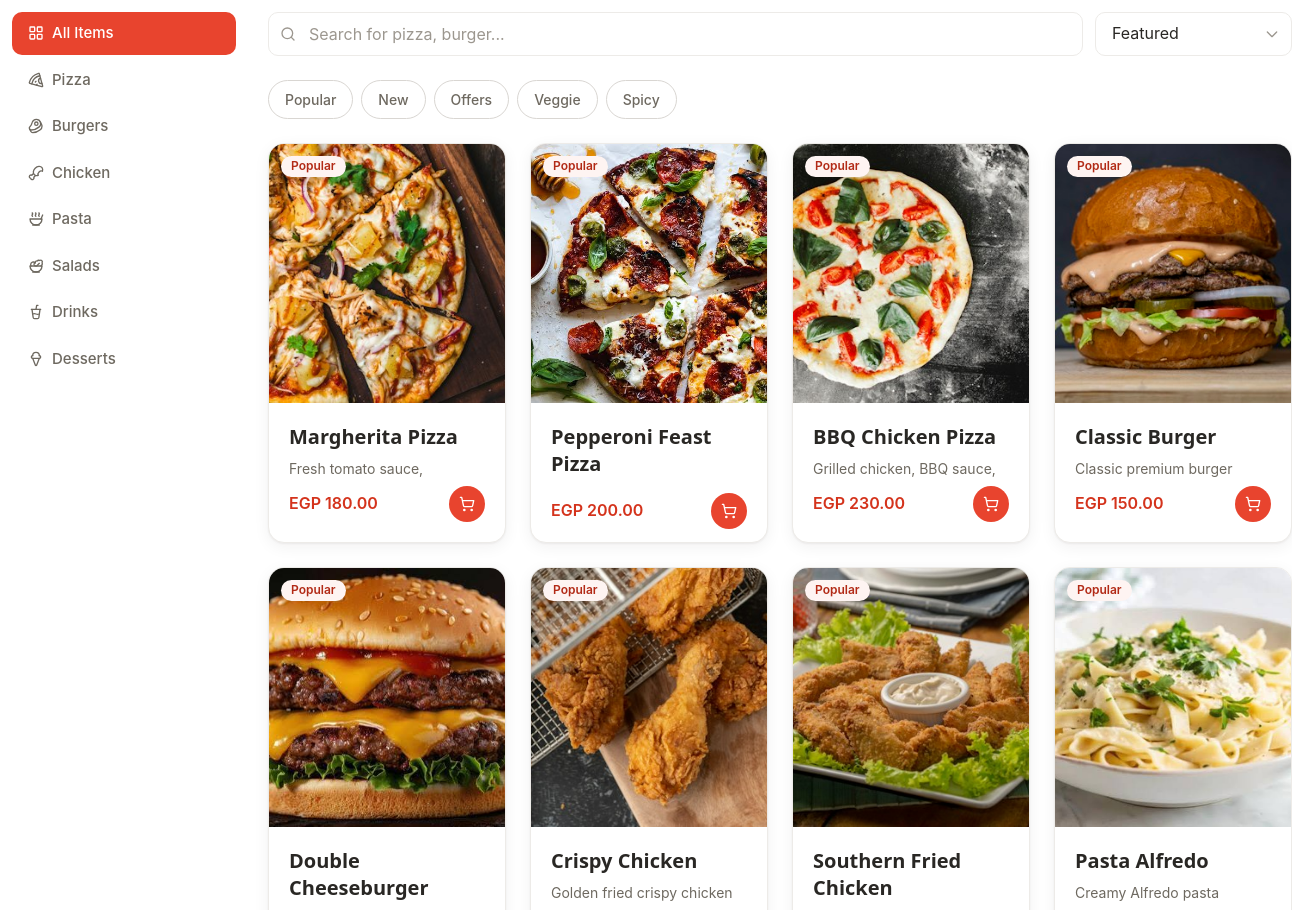
Scenario: MenuClient › clears filters when clear button is clicked
The image size is (1304, 910).
Type "xyznonexistent" into the search field with placeholder "Search for pizza, burger..." at (676, 34), box [268, 12, 1083, 56]
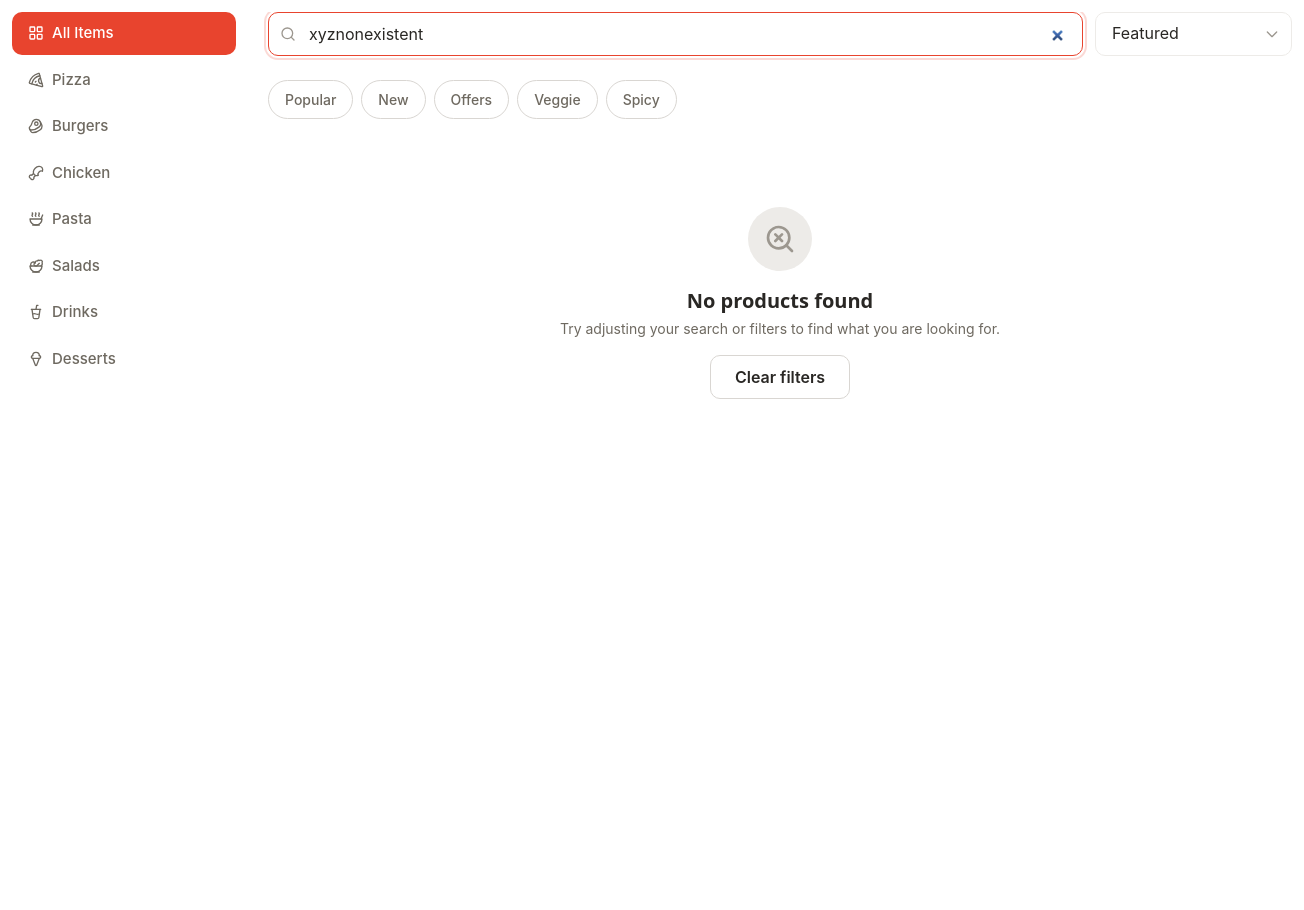
Click the button "Clear filters" at (780, 377), box [710, 355, 850, 399]
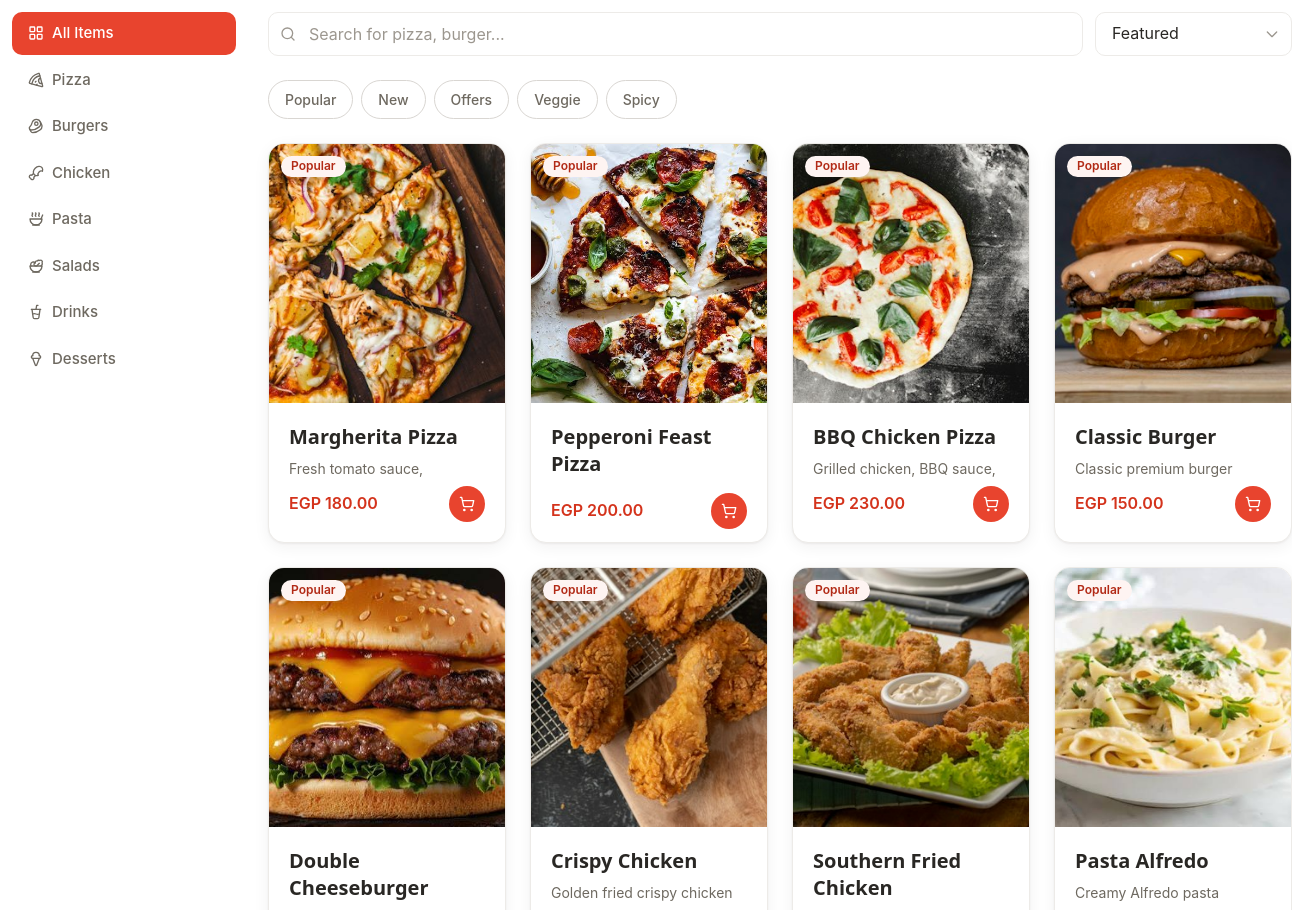
Result: the heading "Margherita Pizza" is shown at [289, 423, 485, 450]
